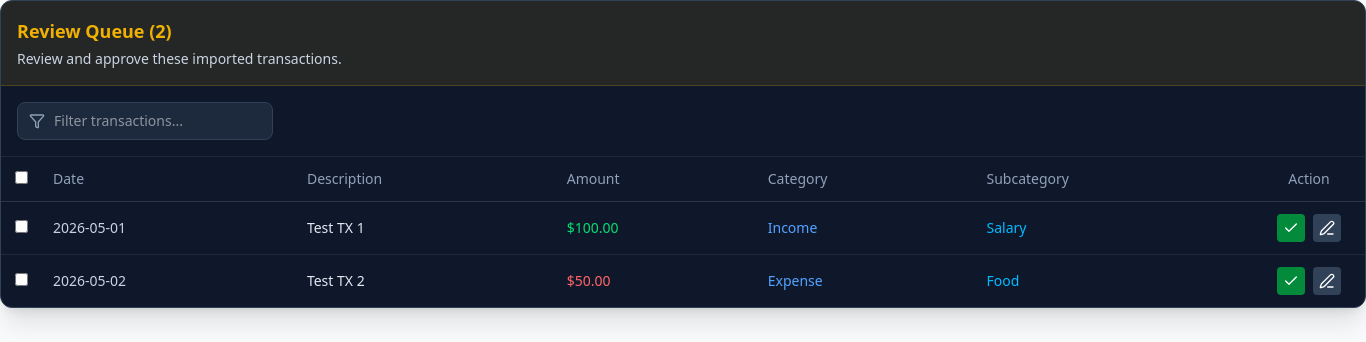
Test: ReviewQueue Component › filters transactions
Step 1. Type "TX 1" into the field with placeholder "Filter transactions..." → {"x": 145, "y": 121}, box [17,102,273,140]
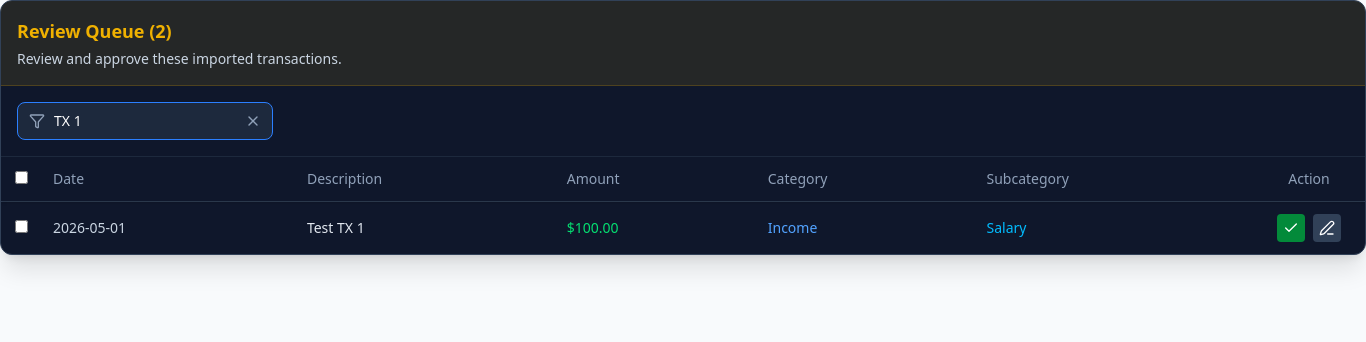
Check: the text "Test TX 1" is shown, box [295,202,555,254]
Check: the text "Test TX 2" is gone
